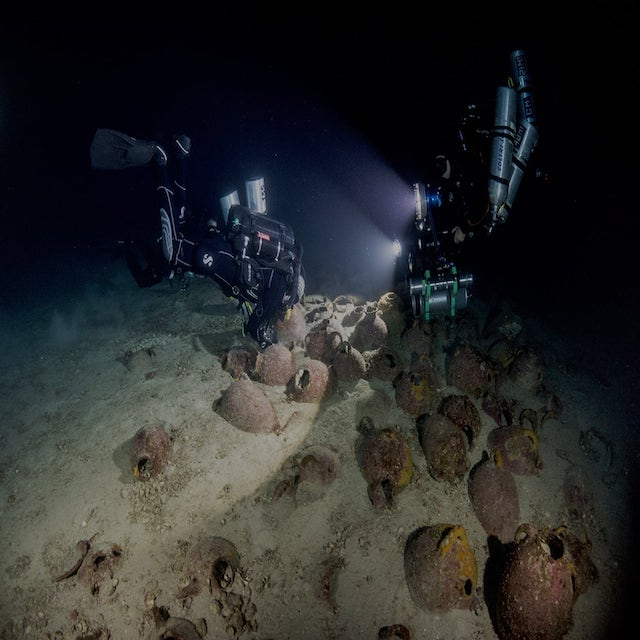amphora: (498, 523, 577, 640), (399, 521, 481, 611), (211, 373, 283, 443), (469, 452, 520, 537), (353, 421, 416, 489), (422, 413, 472, 482), (185, 534, 242, 593), (129, 421, 174, 482), (496, 419, 541, 480), (287, 444, 345, 489), (445, 344, 493, 392), (78, 543, 129, 587), (142, 604, 204, 640), (560, 465, 599, 522), (441, 393, 485, 442), (292, 359, 337, 402), (254, 346, 298, 384), (331, 340, 368, 384), (514, 350, 548, 396), (357, 306, 391, 352), (302, 324, 345, 360), (366, 476, 400, 517), (396, 371, 430, 410), (376, 292, 407, 333), (222, 349, 256, 378), (370, 352, 400, 383), (412, 352, 438, 383), (309, 304, 341, 327), (347, 304, 369, 335)
